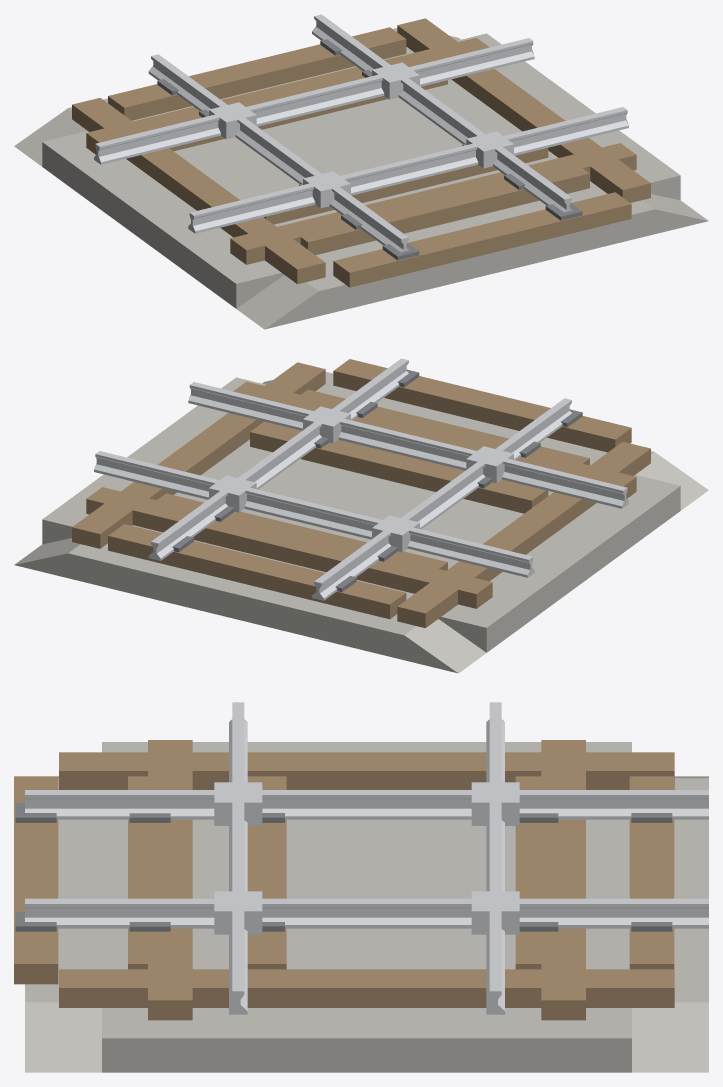
File: steam-era-railway-and-rolling-stock-crossing-diamond-6c9a5b4e.glb
3 views of the same model, one above another, from view 1: azimuth 30°, elevation 25°; view 2: azimuth 150°, elevation 25°; view 3: azimuth 270°, elevation 25° (orthographic). The views are drawn at different scales.
Parts seen in each view (by area): view 1: crossing-diamond; view 2: crossing-diamond; view 3: crossing-diamond.
Boxes of the visible parts, x1,y1,x2,y2 form: crossing-diamond: (14,14,708,329); crossing-diamond: (14,358,708,673); crossing-diamond: (14,702,708,1072).
Bounding box in the file's own units: 4.1 × 0.5001 × 4.06.
